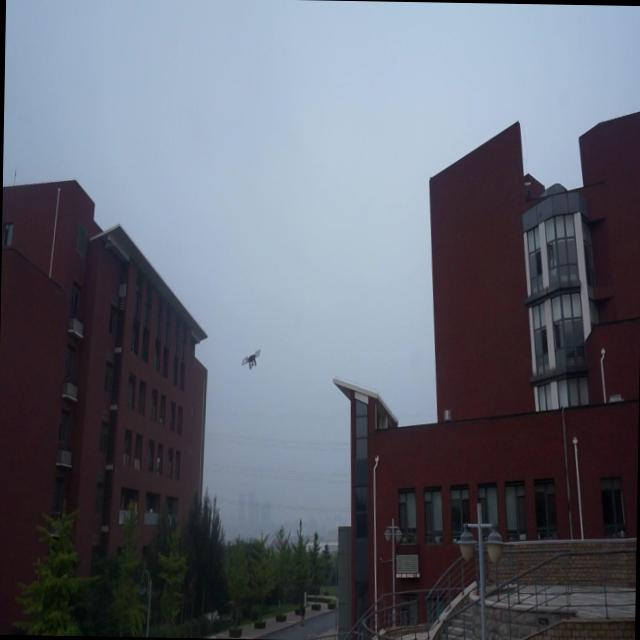drone: (240, 344, 264, 378)
